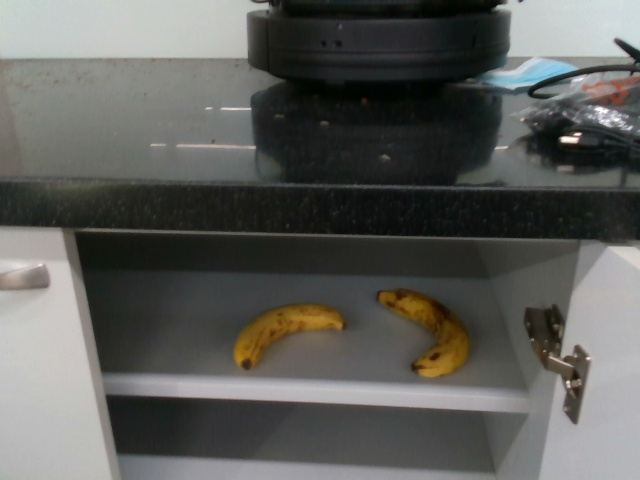banana: (375, 287, 473, 379), (233, 300, 347, 371)
